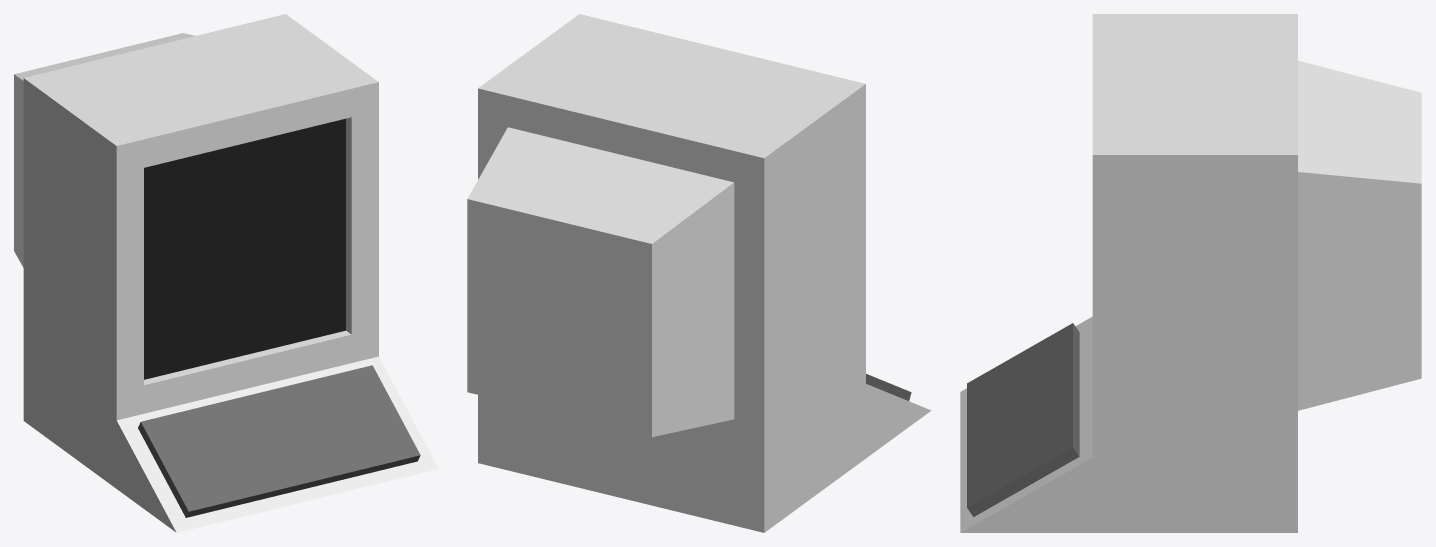
File: Asset_Computer.fbx
3 renders of one model, left to right at view 1: azimuth 30°, elevation 25°; view 2: azimuth 150°, elevation 25°; view 3: azimuth 270°, elevation 25°, orthographic. The views are drawn at different scales.
Visible parts, largest first — view 1: Asset_Computer; view 2: Asset_Computer; view 3: Asset_Computer.
Part boxes in pixels (left/top/right/bottom): Asset_Computer: left=14, top=14, right=438, bottom=532; Asset_Computer: left=467, top=14, right=931, bottom=532; Asset_Computer: left=960, top=14, right=1421, bottom=532.
Size of the model in its own units: 55.7 by 69.62 by 77.01.
